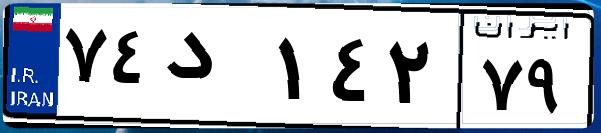1: (270, 28, 330, 110)
2: (385, 28, 445, 110)
4: (330, 28, 385, 110), (110, 28, 158, 98)
7: (57, 26, 110, 100), (475, 38, 525, 113)
9: (525, 38, 570, 115)
د: (158, 20, 270, 120)
